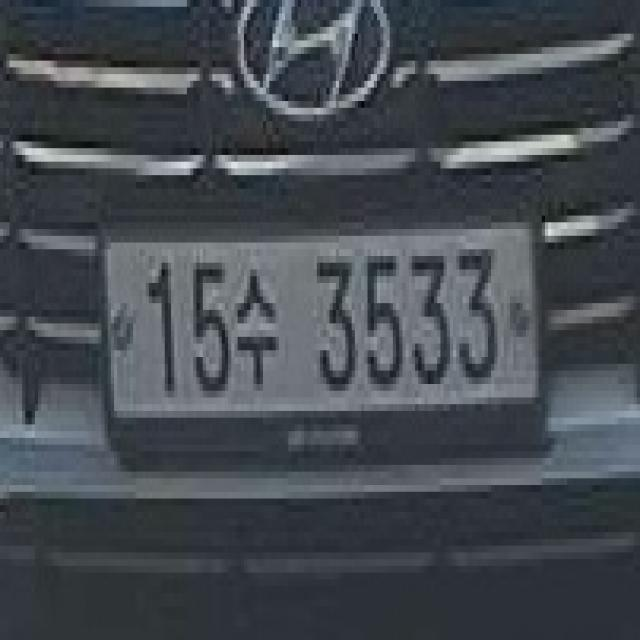1: (146, 242, 180, 411)
3: (450, 236, 504, 397), (314, 243, 361, 404), (409, 236, 453, 397)
5: (361, 236, 409, 404), (187, 249, 234, 404)
license_plate: (92, 209, 558, 451)
su: (234, 256, 282, 411)
